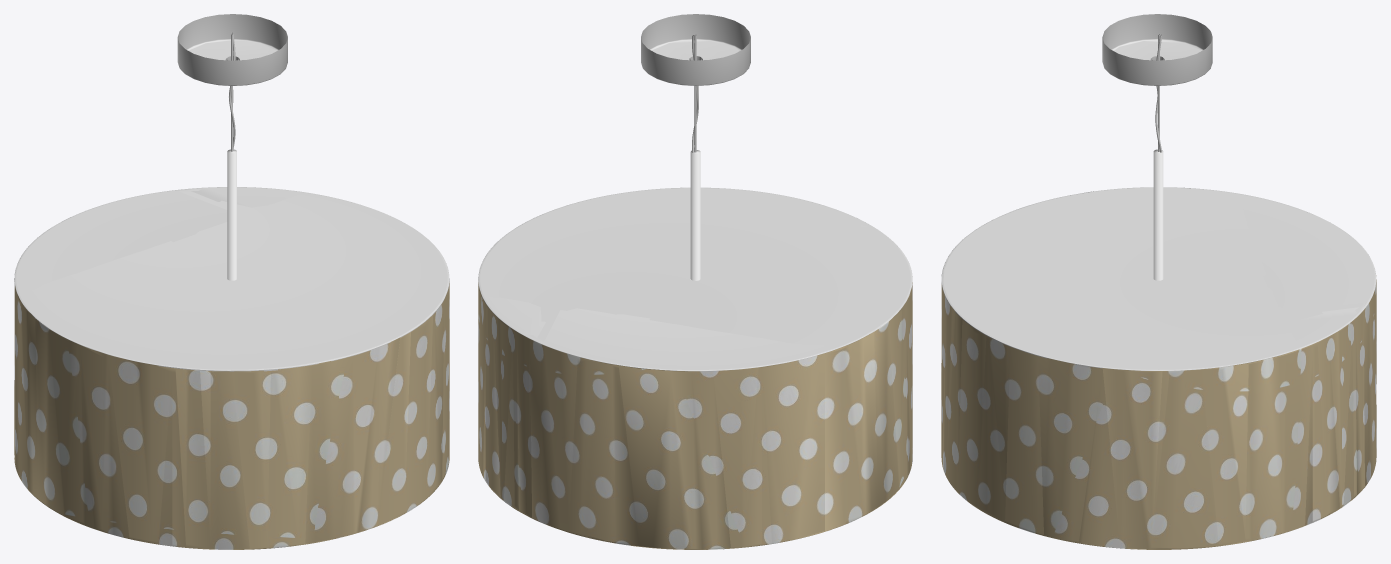
File: lamp.fbx
3 renders of one model, left to right at view 1: azimuth 30°, elevation 25°; view 2: azimuth 150°, elevation 25°; view 3: azimuth 270°, elevation 25°, orthographic.
Parts seen in each view (by area): view 1: 97378_obj; view 2: 97378_obj; view 3: 97378_obj.
Boxes of the visible parts, x1=… form: 97378_obj: x1=14, y1=14, x2=449, y2=549; 97378_obj: x1=478, y1=14, x2=912, y2=549; 97378_obj: x1=941, y1=14, x2=1376, y2=549.
Bounding box in the file's own units: 528 × 568 × 528.
